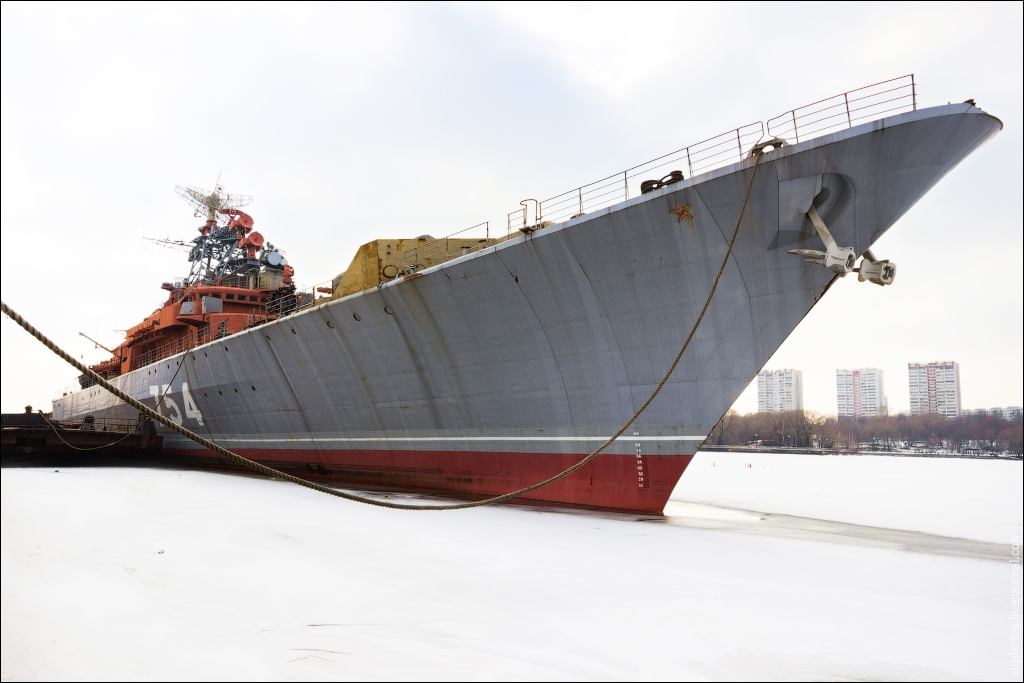rust: (739, 148, 778, 203), (400, 275, 432, 303), (667, 205, 700, 226)
